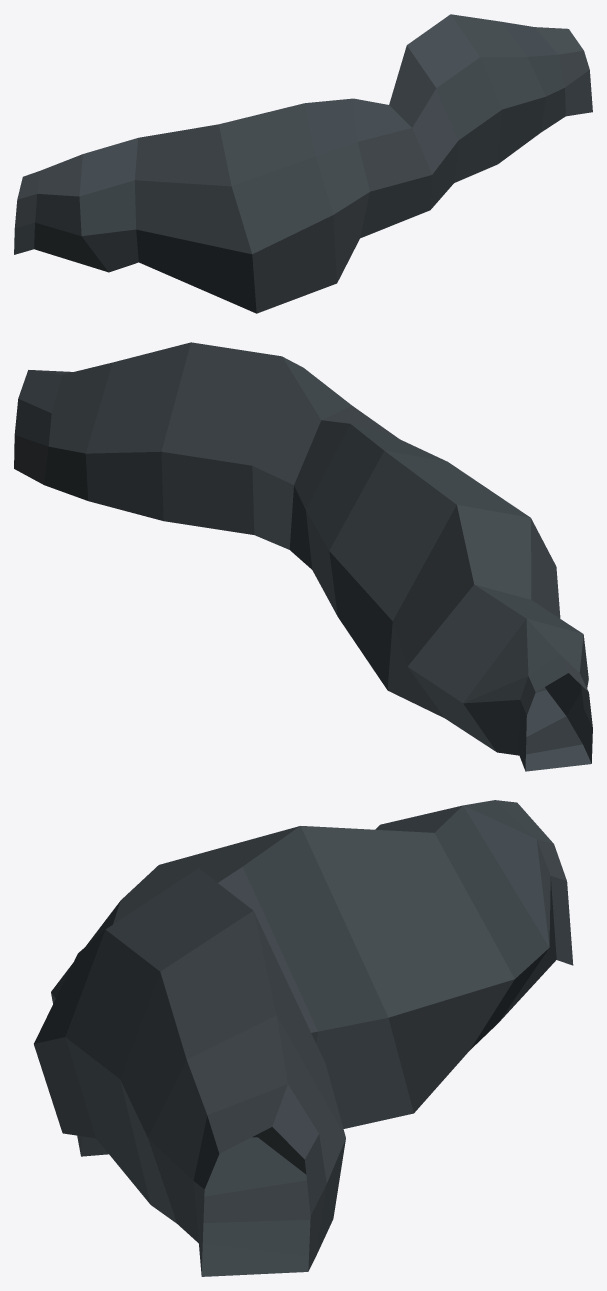
File: Tunnel-A08.fbx
3 renders of one model, top to bottom at view 1: azimuth 30°, elevation 25°; view 2: azimuth 150°, elevation 25°; view 3: azimuth 270°, elevation 25°, orthographic. The views are drawn at different scales.
Parts seen in each view (by area): view 1: Tunnel-A08; view 2: Tunnel-A08; view 3: Tunnel-A08.
Part boxes in pixels (box(x1,y1,x2,y2)): Tunnel-A08: box(14, 14, 592, 313); Tunnel-A08: box(14, 342, 592, 771); Tunnel-A08: box(34, 800, 573, 1276).
Bounding box in the file's own units: 1838 × 851 × 758.
